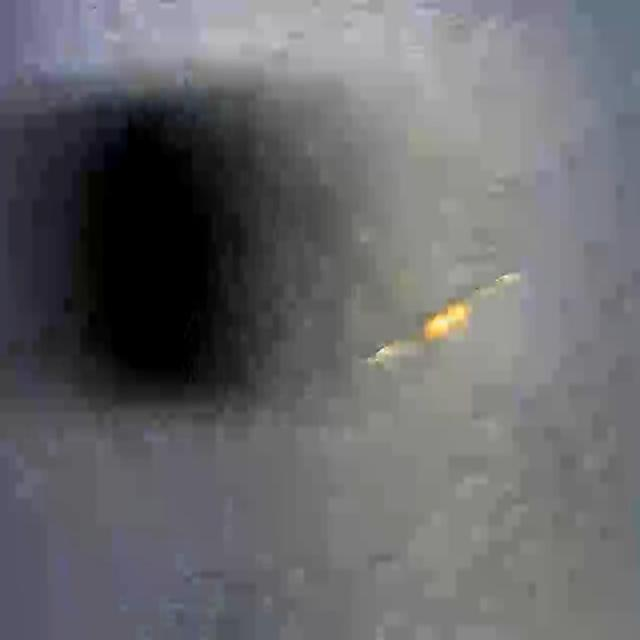resistor: (359, 270, 524, 360)
